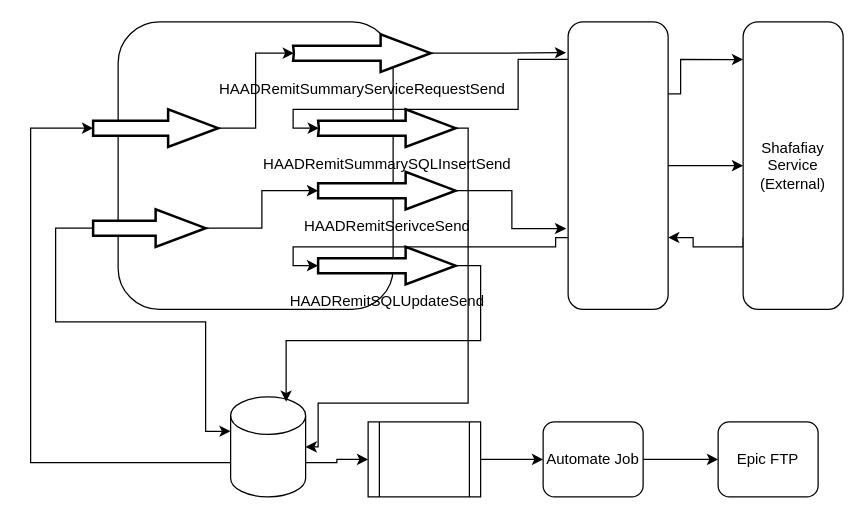
This 865x519 diagram has some shape labels left out. Each missing label, with the centre of its shape:
"DMZ Service" belongs at [617,165].
"HAADInsClaimReceive" belongs at [155,128].
"HAADRemitPollReceive" belongs at [148,228].
"SQL Job" belongs at [424,459].
